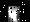person: (9, 7, 21, 22)
